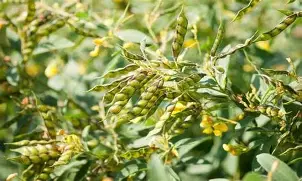crops: (0, 15, 293, 174)
